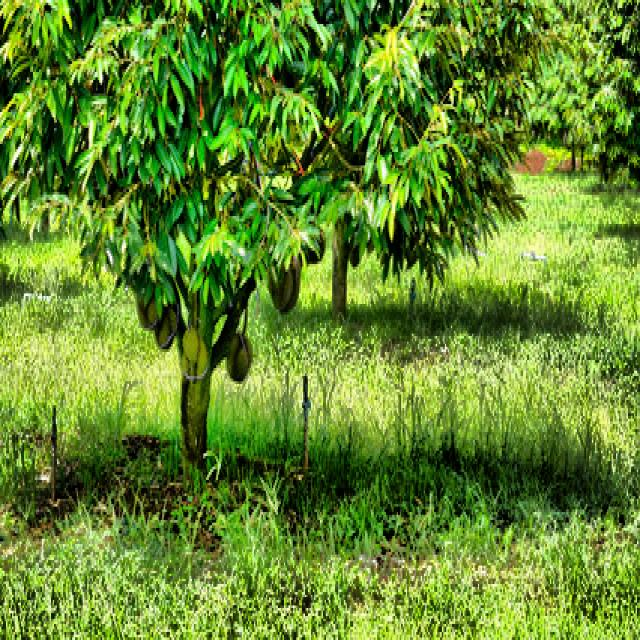arvore: (175, 17, 220, 491), (330, 78, 356, 333)
